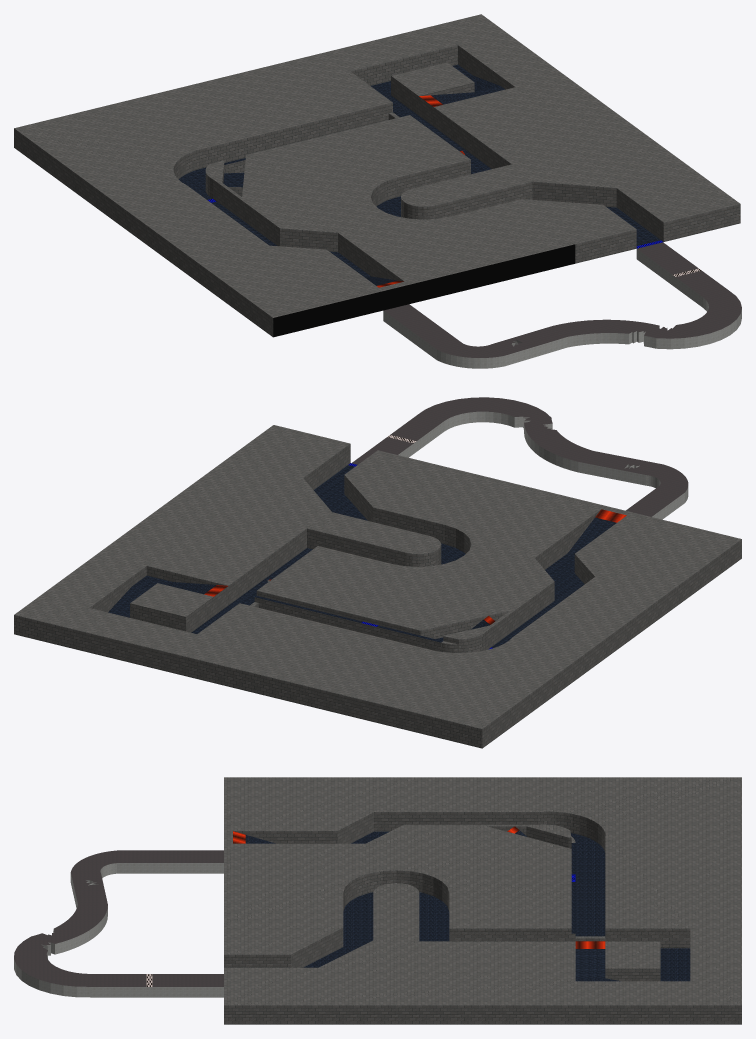
The picture shows the model from 3 angles, top to bottom: view 1: azimuth 30°, elevation 25°; view 2: azimuth 150°, elevation 25°; view 3: azimuth 270°, elevation 25°; orthographic projection.
Visible parts, largest first — view 1: Castle_Of_Spades-SKP--Brick_bowser.001, Castle_Of_Spades-SKP--Asphalt_New1.001, Castle_Of_Spades-SKP--Default_Material.001, Castle_Of_Spades-SKP--Concrete_Block_8x8_Gray.001, Castle_Of_Spades-SKP--lava_road.001; view 2: Castle_Of_Spades-SKP--Brick_bowser.001, Castle_Of_Spades-SKP--Asphalt_New1.001, Castle_Of_Spades-SKP--lava_road.001, Castle_Of_Spades-SKP--Concrete_Block_8x8_Gray.001; view 3: Castle_Of_Spades-SKP--Brick_bowser.001, Castle_Of_Spades-SKP--lava_road.001, Castle_Of_Spades-SKP--Asphalt_New1.001, Castle_Of_Spades-SKP--Concrete_Block_8x8_Gray.001, Castle_Of_Spades-SKP--fazt_trick.001.
Boxes of the visible parts, box(x1,y1,x2,y2) form: Castle_Of_Spades-SKP--Brick_bowser.001: box(14, 14, 740, 336); Castle_Of_Spades-SKP--Asphalt_New1.001: box(383, 242, 741, 357); Castle_Of_Spades-SKP--Default_Material.001: box(273, 244, 575, 337); Castle_Of_Spades-SKP--Concrete_Block_8x8_Gray.001: box(383, 249, 741, 368); Castle_Of_Spades-SKP--lava_road.001: box(179, 64, 660, 285); Castle_Of_Spades-SKP--Brick_bowser.001: box(14, 425, 741, 748); Castle_Of_Spades-SKP--Asphalt_New1.001: box(351, 397, 688, 516); Castle_Of_Spades-SKP--lava_road.001: box(108, 465, 616, 647); Castle_Of_Spades-SKP--Concrete_Block_8x8_Gray.001: box(267, 411, 688, 581); Castle_Of_Spades-SKP--Brick_bowser.001: box(224, 777, 741, 1024); Castle_Of_Spades-SKP--lava_road.001: box(245, 830, 690, 981); Castle_Of_Spades-SKP--Asphalt_New1.001: box(14, 850, 223, 986); Castle_Of_Spades-SKP--Concrete_Block_8x8_Gray.001: box(14, 863, 223, 997); Castle_Of_Spades-SKP--fazt_trick.001: box(233, 826, 605, 948).
Size of the model in its own units: 70915 by 4364 by 95709.
9 materials, 9 textured.
